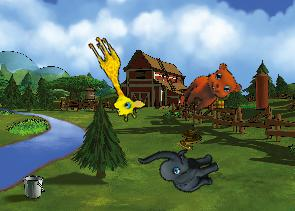bear: (177, 56, 246, 126)
elephant: (137, 127, 224, 208)
giraffe: (77, 32, 149, 125)
